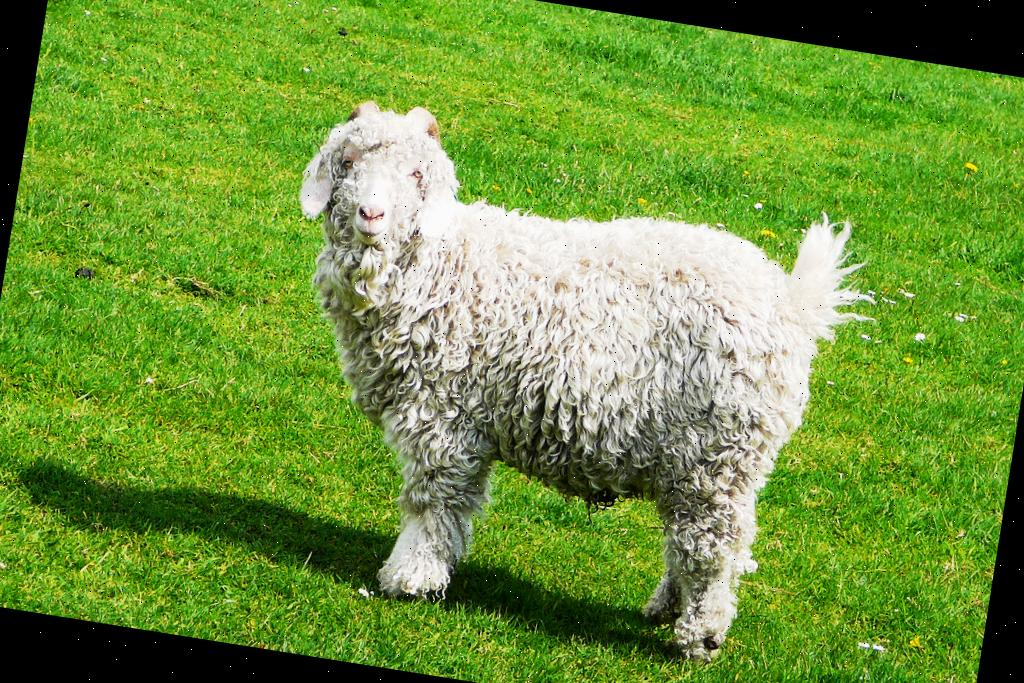Sheep: (234, 88, 898, 679)
